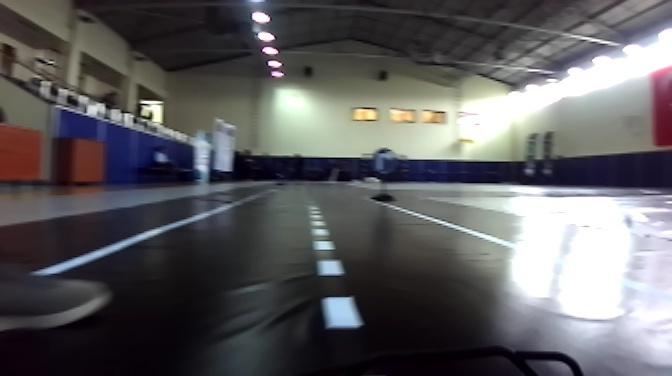saga_donus: (371, 146, 401, 179)
